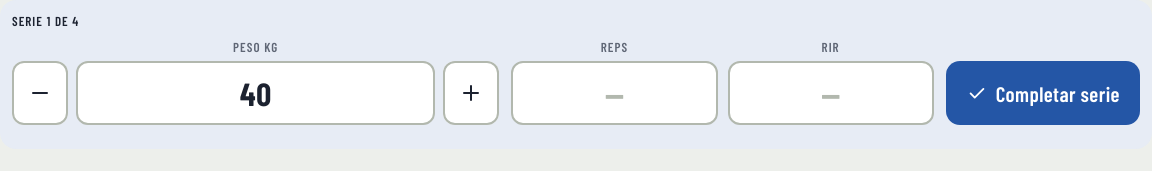
Scenario: componentes › SetEditor: muestra el error al pulsar Completar, enlazado con aria-invalid
Click the button "Completar serie" at {"x": 1043, "y": 93}, box [946,61,1140,125]
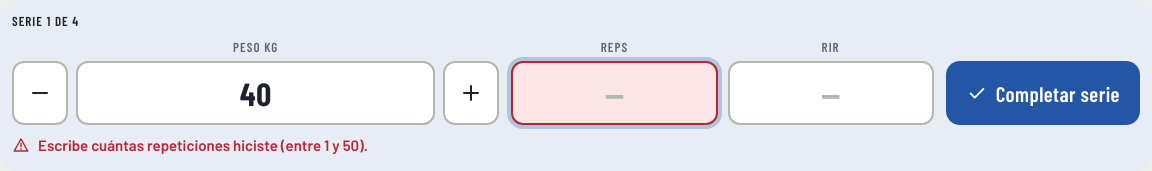
Expected: the text "Escribe cuántas repeticiones hiciste (entre 1 y 50)." is shown, [38,136,368,154]
